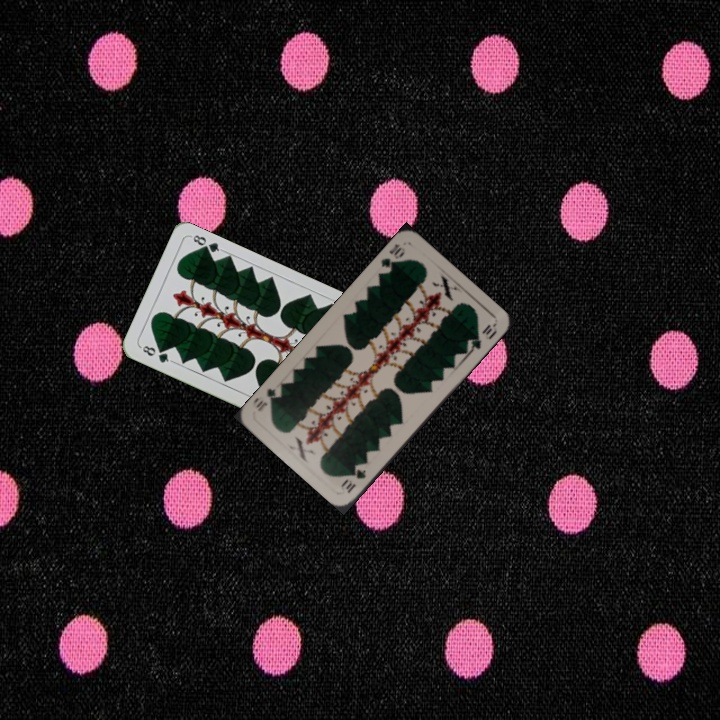G10: (377, 240, 407, 277), (338, 465, 369, 496)
G8: (136, 341, 175, 366)
